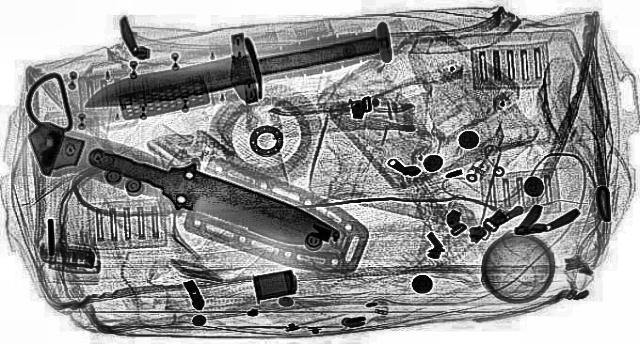Knife: (65, 140, 353, 250), (72, 28, 390, 115)
